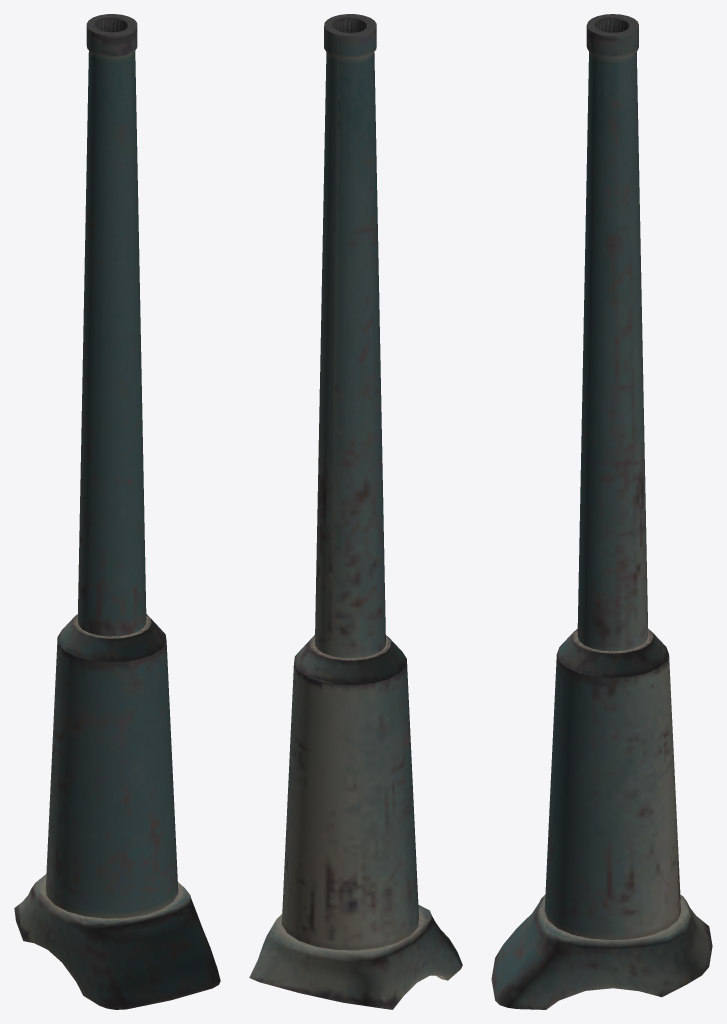
Rendered from Gun_04.glb.
3 views of the same model, side by side, from view 1: azimuth 30°, elevation 25°; view 2: azimuth 150°, elevation 25°; view 3: azimuth 270°, elevation 25° (orthographic). The views are drawn at different scales.
Parts seen in each view (by area): view 1: set_0_group_0; view 2: set_0_group_0; view 3: set_0_group_0.
Boxes of the visible parts, x1,y1,x2,y2 form: set_0_group_0: [14, 14, 220, 1009]; set_0_group_0: [249, 14, 462, 1009]; set_0_group_0: [491, 14, 712, 1009].
Size of the model in its own units: 0.3404 by 2.34 by 0.4906.
Materials: 1 (1 with a texture image).
